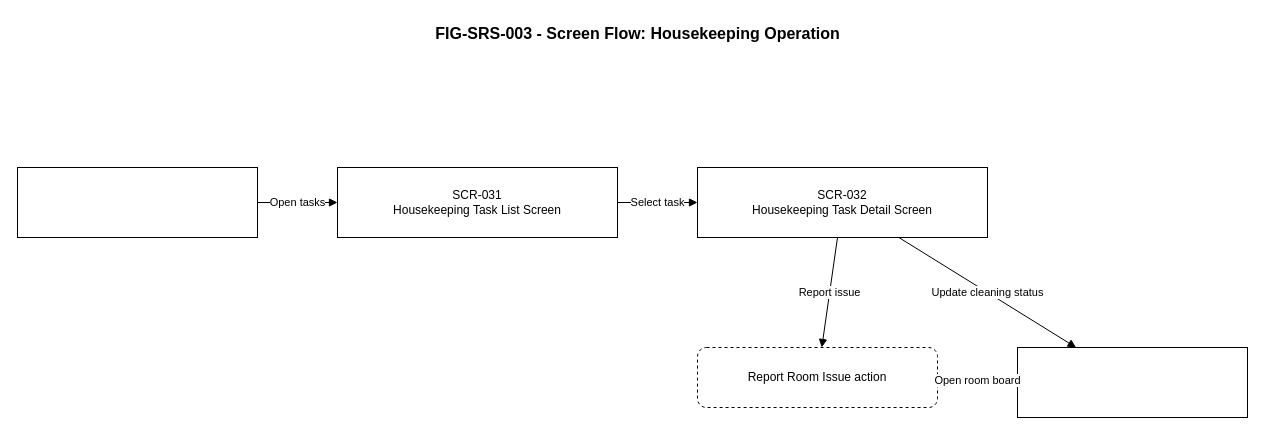
The diagram is 1265 pixels wide and 435 high, and some of its shapes have lost their labels. Here are the shapes that lost their labels. From the top down, the box of each, then its label:
(16, 166, 258, 238): SCR-030 Housekeeping Dashboard
(1016, 346, 1248, 418): SCR-035 Room Status Board
